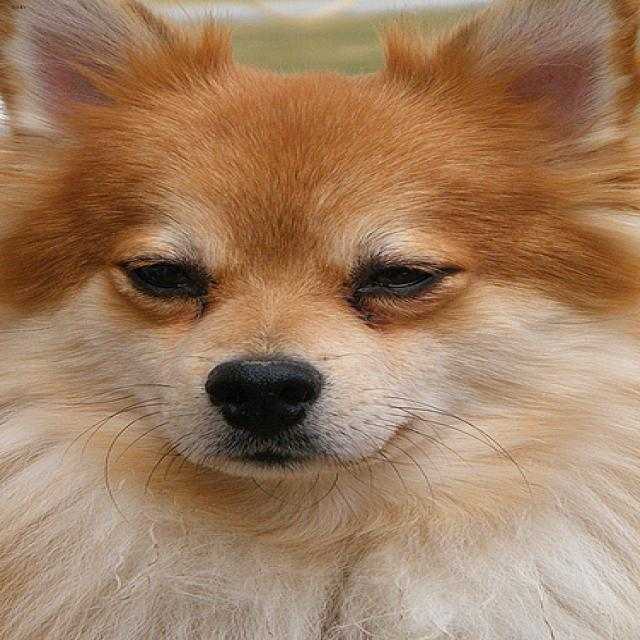dog-pomeranian: (2, 1, 637, 637)
